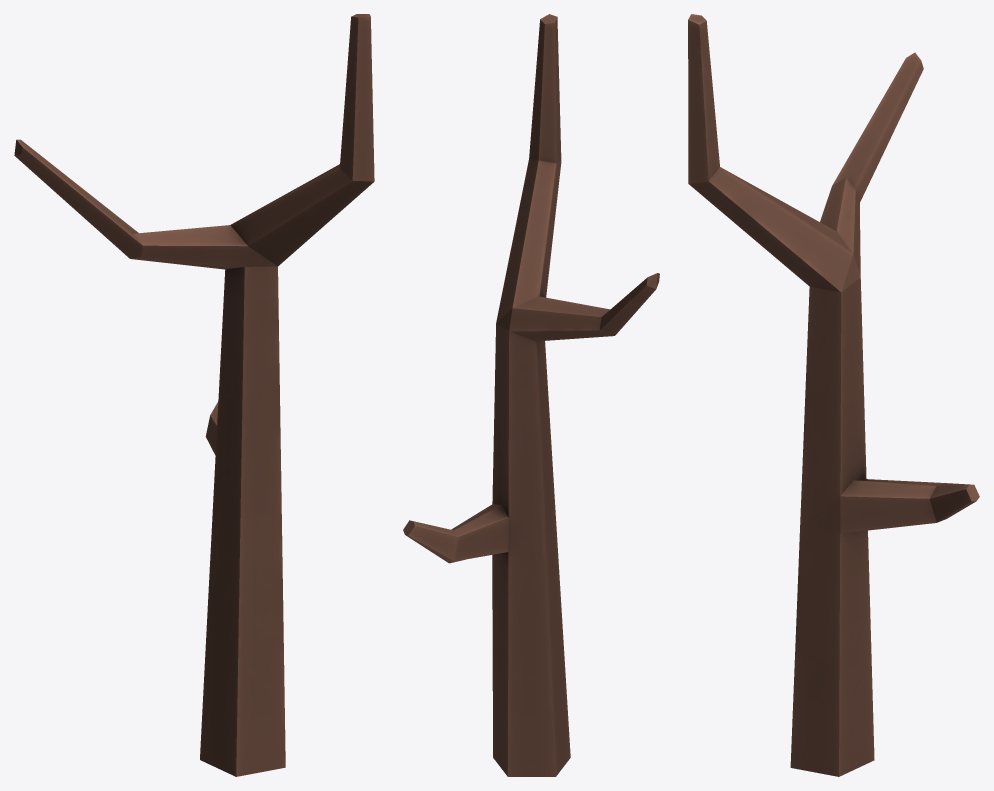
Rendered from Tree_2.fbx.
3 views of the same model, side by side, from view 1: azimuth 30°, elevation 25°; view 2: azimuth 150°, elevation 25°; view 3: azimuth 270°, elevation 25° (orthographic). The views are drawn at different scales.
Visible parts, largest first — view 1: Tree_2; view 2: Tree_2; view 3: Tree_2.
Part boxes in pixels (x1=…): Tree_2: x1=14, y1=14, x2=374, y2=776; Tree_2: x1=403, y1=14, x2=659, y2=776; Tree_2: x1=688, y1=14, x2=979, y2=776.
Bounding box in the file's own units: 34.36 × 99.01 × 34.27.
